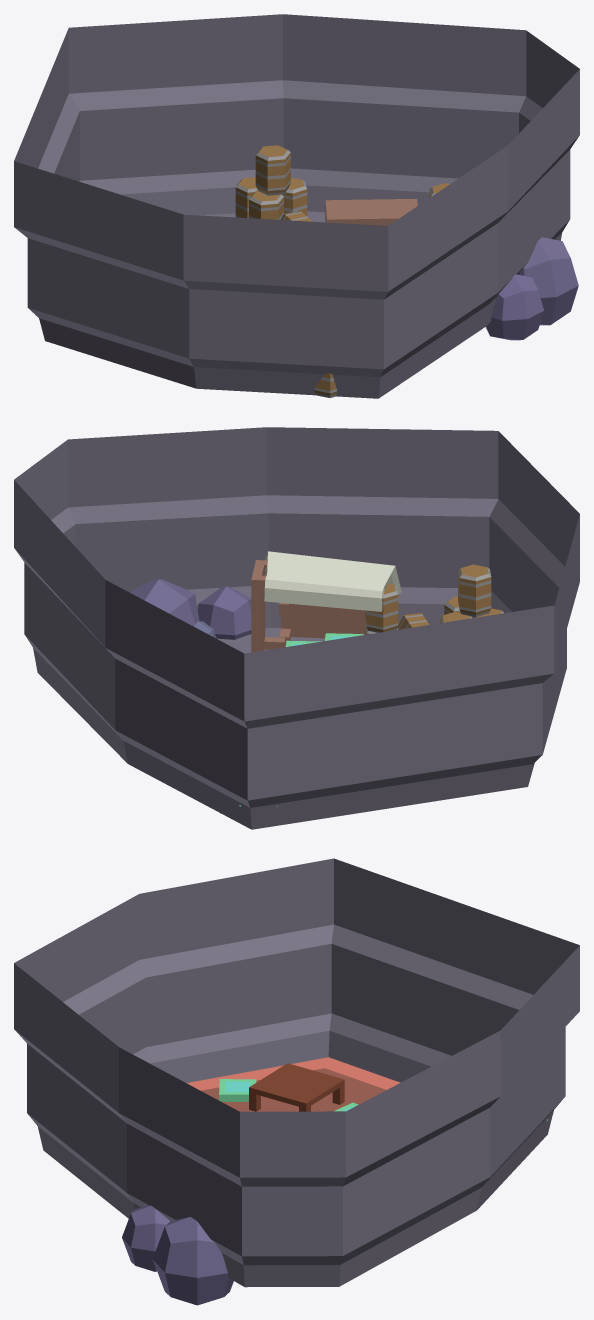
Rendered from Hideout.fbx.
3 views of the same model, one above another, from view 1: azimuth 30°, elevation 25°; view 2: azimuth 150°, elevation 25°; view 3: azimuth 270°, elevation 25° (orthographic). The views are drawn at different scales.
Parts seen in each view (by area): view 1: Circle, Bush, Bush.001, Desk1, barrel.005, barrel.007, barrel.008, barrel.006; view 2: Circle, Cube, Desk1.001, Bush.001, Bush, barrel.004, Desk1.002, barrel.012; view 3: Circle, Bush, Table, Bush.001, Seat1.001.
Boxes of the visible parts, x1=… form: Circle: x1=14, y1=14, x2=579, y2=398; Bush: x1=519, y1=237, x2=578, y2=325; Bush.001: x1=485, y1=274, x2=543, y2=340; Desk1: x1=325, y1=198, x2=417, y2=225; barrel.005: x1=255, y1=145, x2=290, y2=195; barrel.007: x1=249, y1=190, x2=283, y2=219; barrel.008: x1=282, y1=178, x2=307, y2=216; barrel.006: x1=235, y1=177, x2=257, y2=218; Circle: x1=14, y1=427, x2=579, y2=829; Cube: x1=264, y1=551, x2=401, y2=611; Desk1.001: x1=279, y1=603, x2=365, y2=645; Bush.001: x1=197, y1=586, x2=251, y2=639; Bush: x1=129, y1=579, x2=199, y2=626; barrel.004: x1=458, y1=564, x2=491, y2=617; Desk1.002: x1=251, y1=560, x2=285, y2=652; barrel.012: x1=365, y1=583, x2=398, y2=632; Circle: x1=14, y1=858, x2=579, y2=1287; Bush: x1=152, y1=1217, x2=233, y2=1305; Table: x1=249, y1=1063, x2=344, y2=1111; Bush.001: x1=122, y1=1205, x2=170, y2=1271; Seat1.001: x1=219, y1=1079, x2=256, y2=1101.
Bounding box in the file's own units: 3834 × 1588 × 3621.
